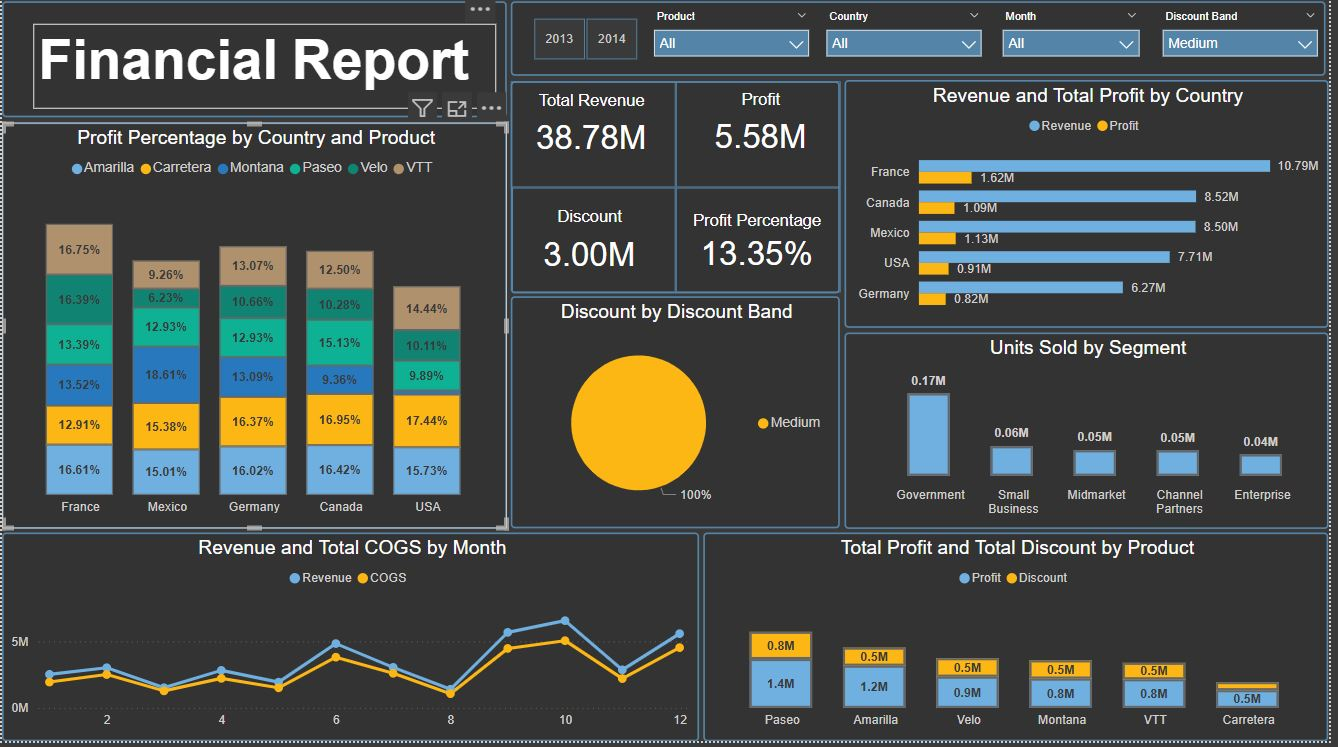

Layout of this report page (visuals, bound fields, positions):
{"tool":"powerbi","page":{"name":"Page 1","canvas":[1280,720],"ordinal":0},"visuals":[{"type":"shape","box":[491,6,786.6,72.4],"z":0},{"type":"shape","box":[491,83.2,317.3,205.1],"z":1000},{"type":"lineChart","title":"Revenue and Total COGS by Month","fields":{"Category":["financial_sample_week5.Month Number"],"Y":["Sum(financial_sample_week5.Gross Sales)","Sum(financial_sample_week5.COGS)"]},"box":[0,518.8,673.2,201.5],"z":2000},{"type":"card","title":"Total Revenue","fields":{"Values":["Sum(financial_sample_week5. Sales)"]},"box":[465.7,92.9,206.3,71.2],"z":3000},{"type":"card","title":"Profit","fields":{"Values":["Sum(financial_sample_week5.Profit)"]},"box":[638.2,91.7,188.2,71.2],"z":4000},{"type":"card","title":"Discount","fields":{"Values":["Sum(financial_sample_week5.Discount)"]},"box":[476.5,205.1,181,72.4],"z":5000},{"type":"card","title":"Profit Percentage","fields":{"Values":["financial_sample_week5.Profit Percentage"]},"box":[628.6,208.7,200.3,62.7],"z":6000},{"type":"slicer","fields":{"Values":["financial_sample_week5.Month Name"]},"box":[955.5,9.7,152,53.1],"z":7000},{"type":"columnChart","title":"Total Profit and Total Discount by Product","fields":{"Y":["Sum(financial_sample_week5.Profit)","Sum(financial_sample_week5.Discount)"],"Category":["financial_sample_week5.Product"]},"box":[676.8,518.5,603.2,201.5],"z":8000},{"type":"slicer","fields":{"Values":["financial_sample_week5.Discount Band"]},"box":[1109.9,9.7,170.1,60.3],"z":9000},{"type":"pieChart","title":"Discount by Discount Band","fields":{"Y":["Sum(financial_sample_week5.Discount)"],"Category":["financial_sample_week5.Discount Band"]},"box":[491,290.8,317.3,224],"z":10000},{"type":"clusteredBarChart","title":"Revenue and Total Profit by Country","fields":{"Category":["financial_sample_week5.Country"],"Y":["Sum(financial_sample_week5.Gross Sales)","Sum(financial_sample_week5.Profit)"]},"box":[813.1,82,466.9,238.9],"z":11000},{"type":"slicer","fields":{"Values":["financial_sample_week5.Year"]},"box":[487.4,15.7,149.6,53.1],"z":12000},{"type":"clusteredColumnChart","title":"Units Sold by Segment","fields":{"Category":["financial_sample_week5.Segment"],"Y":["Sum(financial_sample_week5.Units Sold)"]},"box":[813.1,325.7,466.9,189.4],"z":13000},{"type":"slicer","fields":{"Values":["financial_sample_week5.Country"]},"box":[785.4,9.7,170.1,60.3],"z":14000},{"type":"slicer","fields":{"Values":["financial_sample_week5.Product"]},"box":[618.9,9.7,170.1,60.3],"z":15000},{"type":"shape","box":[491,83.2,159.3,102.5],"z":16000},{"type":"shape","box":[650.3,83.2,159.3,102.5],"z":17000},{"type":"shape","box":[650.3,185.8,159.3,101.3],"z":18000},{"type":"shape","box":[492.2,185.8,158,101.3],"z":19000},{"type":"columnChart","fields":{"Category":["financial_sample_week5.Country"],"Y":["financial_sample_week5.Profit Percentage"],"Series":["financial_sample_week5.Product"]},"box":[0,123.1,487.4,392.1],"z":20000},{"type":"shape","box":[0,6,487.4,112.2],"z":20001},{"type":"textbox","box":[30.2,27.7,446.4,82],"z":20002}]}

Visuals, with their boxes in screenshot pixels (x1, y1, x2, y2), scaled from the page's 1280x720 canvas onto the 1338x747 screenshot:
shape: [left=513, top=6, right=1335, bottom=81]
shape: [left=513, top=86, right=845, bottom=299]
"Revenue and Total COGS by Month" lineChart: [left=0, top=538, right=704, bottom=746]
"Total Revenue" card: [left=487, top=96, right=702, bottom=170]
"Profit" card: [left=667, top=95, right=864, bottom=169]
"Discount" card: [left=498, top=213, right=687, bottom=288]
"Profit Percentage" card: [left=657, top=217, right=866, bottom=282]
slicer - financial_sample_week5.Month Name: [left=999, top=10, right=1158, bottom=65]
"Total Profit and Total Discount by Product" columnChart: [left=707, top=538, right=1337, bottom=746]
slicer - financial_sample_week5.Discount Band: [left=1160, top=10, right=1337, bottom=73]
"Discount by Discount Band" pieChart: [left=513, top=302, right=845, bottom=534]
"Revenue and Total Profit by Country" clusteredBarChart: [left=850, top=85, right=1337, bottom=333]
slicer - financial_sample_week5.Year: [left=509, top=16, right=666, bottom=71]
"Units Sold by Segment" clusteredColumnChart: [left=850, top=338, right=1337, bottom=534]
slicer - financial_sample_week5.Country: [left=821, top=10, right=999, bottom=73]
slicer - financial_sample_week5.Product: [left=647, top=10, right=825, bottom=73]
shape: [left=513, top=86, right=680, bottom=193]
shape: [left=680, top=86, right=846, bottom=193]
shape: [left=680, top=193, right=846, bottom=298]
shape: [left=515, top=193, right=680, bottom=298]
columnChart - financial_sample_week5.Country x financial_sample_week5.Profit Percentage: [left=0, top=128, right=509, bottom=535]
shape: [left=0, top=6, right=509, bottom=123]
textbox: [left=32, top=29, right=498, bottom=114]
